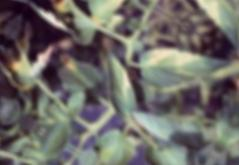Tomato mold leaf: (128, 19, 233, 118), (79, 45, 157, 123), (39, 46, 113, 113), (134, 129, 210, 165), (86, 121, 143, 165), (83, 0, 136, 30)
